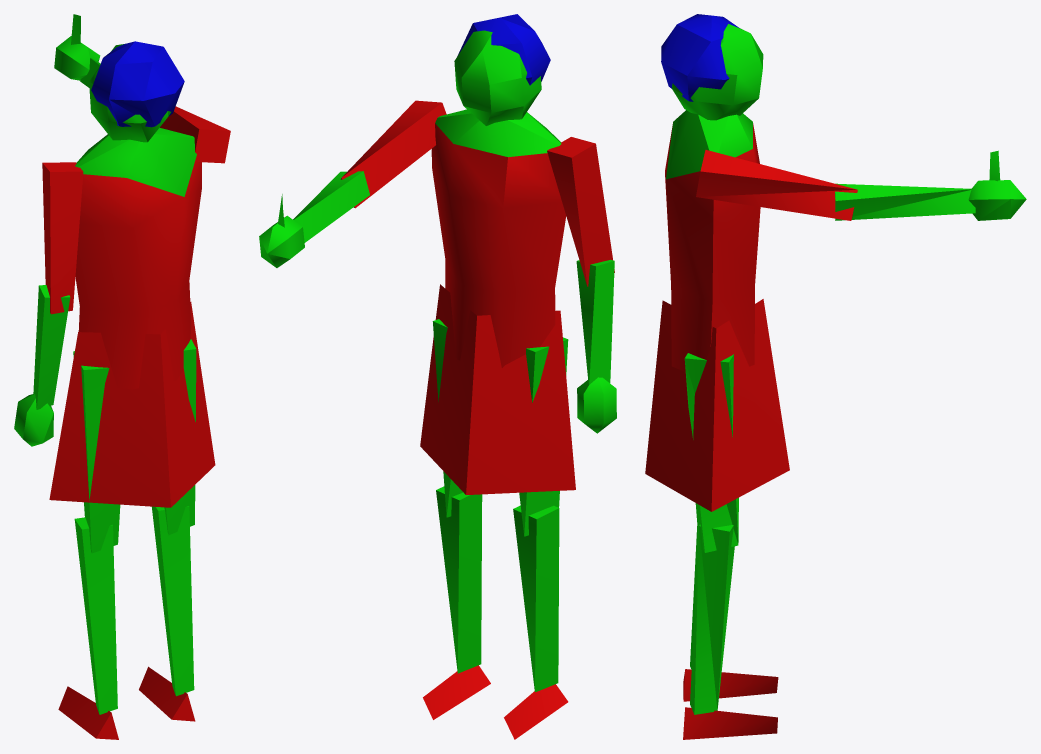
The model's file is stand_thumbs_lod1.glb.
3 views of the same model, side by side, from view 1: azimuth 30°, elevation 25°; view 2: azimuth 150°, elevation 25°; view 3: azimuth 270°, elevation 25° (orthographic). The views are drawn at different scales.
Parts seen in each view (by area): view 1: OUT_1; view 2: OUT_1; view 3: OUT_1.
Boxes of the visible parts, <box> form: OUT_1: <box>14,14,230,739</box>; OUT_1: <box>259,14,616,739</box>; OUT_1: <box>645,14,1026,739</box>.
Bounding box in the file's own units: 0.5587 × 1.7 × 0.8408.
